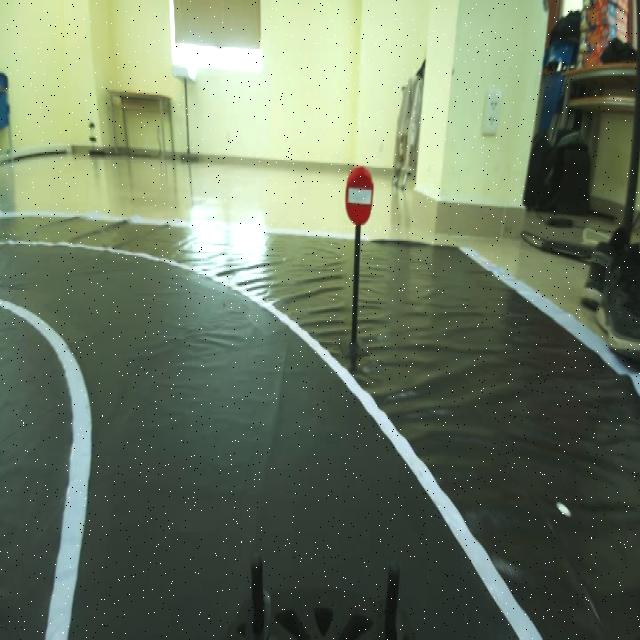no_entry: (342, 159, 372, 224)
